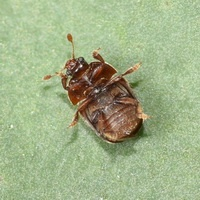insect: (43, 34, 149, 142)
